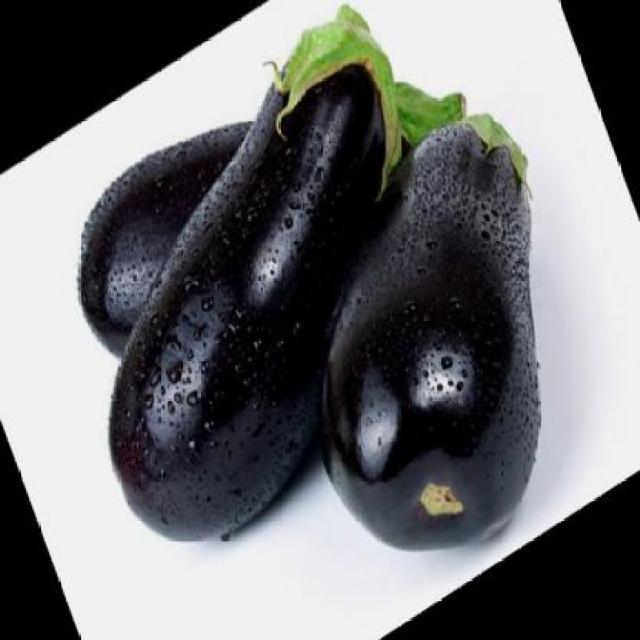eggplant: (96, 0, 405, 583), (76, 76, 478, 374), (310, 112, 552, 548)
